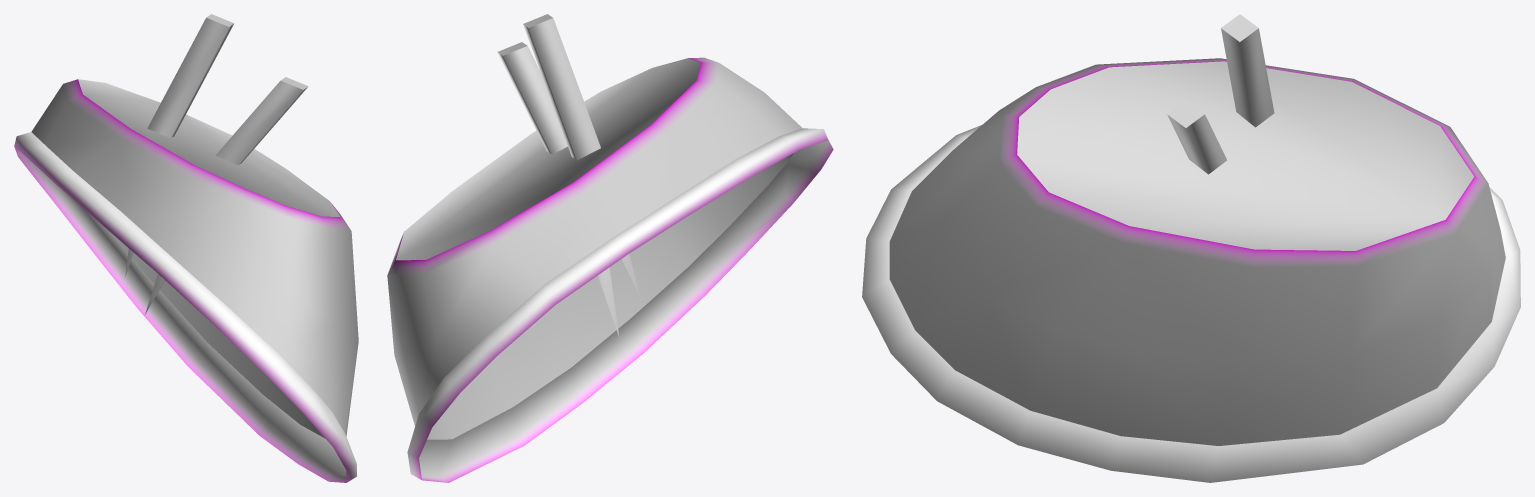
The model's file is Car_Mini_CountrymanJCW_2017_MirrorBaseL_SetA.fbx.
3 renders of one model, left to right at view 1: azimuth 30°, elevation 25°; view 2: azimuth 150°, elevation 25°; view 3: azimuth 270°, elevation 25°, orthographic. The views are drawn at different scales.
Visible parts, largest first — view 1: MirrorBaseL 6; view 2: MirrorBaseL 6; view 3: MirrorBaseL 6.
Part boxes in pixels (x1=…): MirrorBaseL 6: x1=14, y1=14, x2=358, y2=482; MirrorBaseL 6: x1=387, y1=14, x2=833, y2=482; MirrorBaseL 6: x1=862, y1=14, x2=1520, y2=482.
Size of the model in its own units: 0.075 by 0.1252 by 0.1671.
